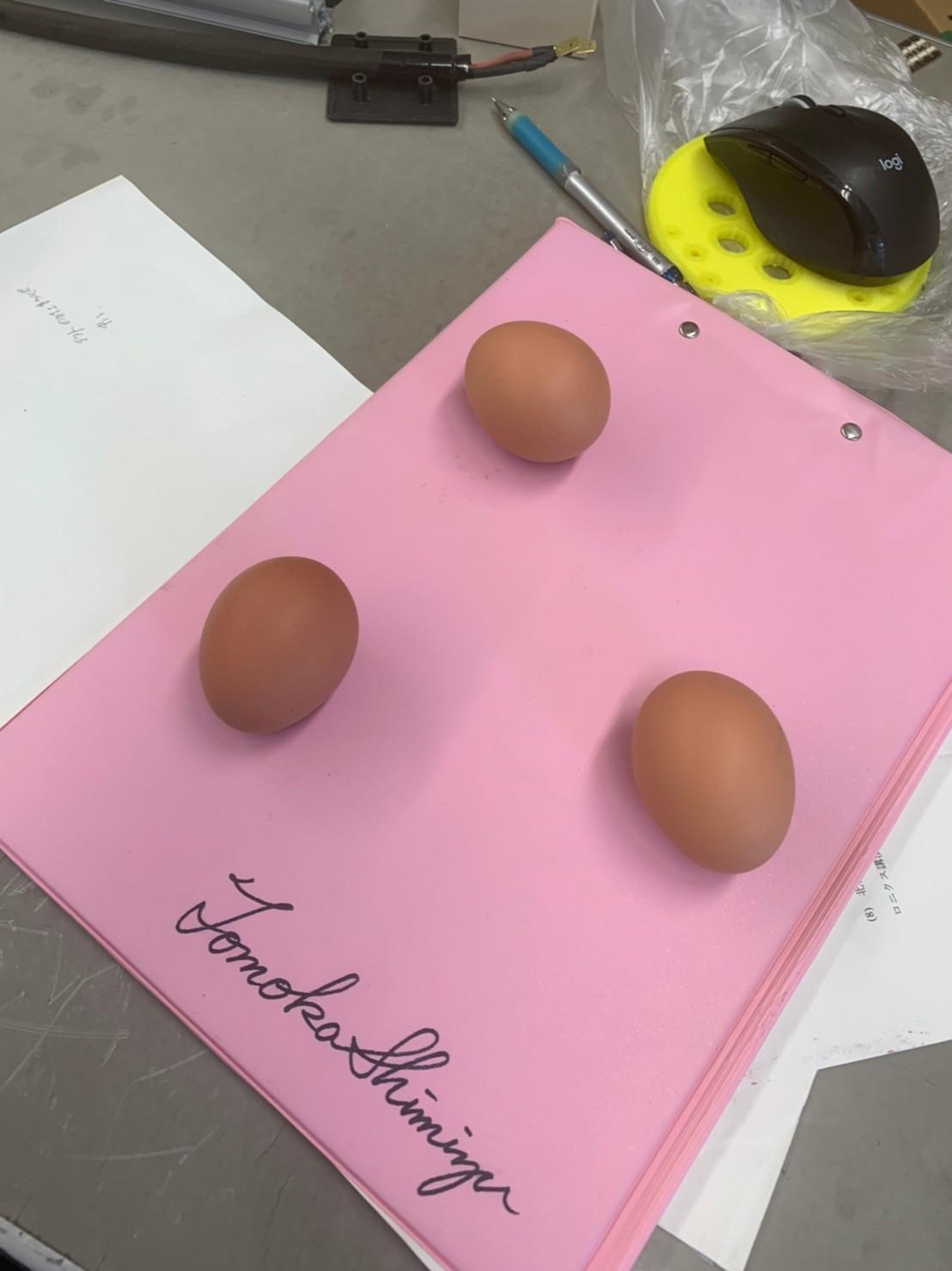egg: (615, 669, 799, 876), (193, 552, 370, 734), (458, 319, 613, 470)
